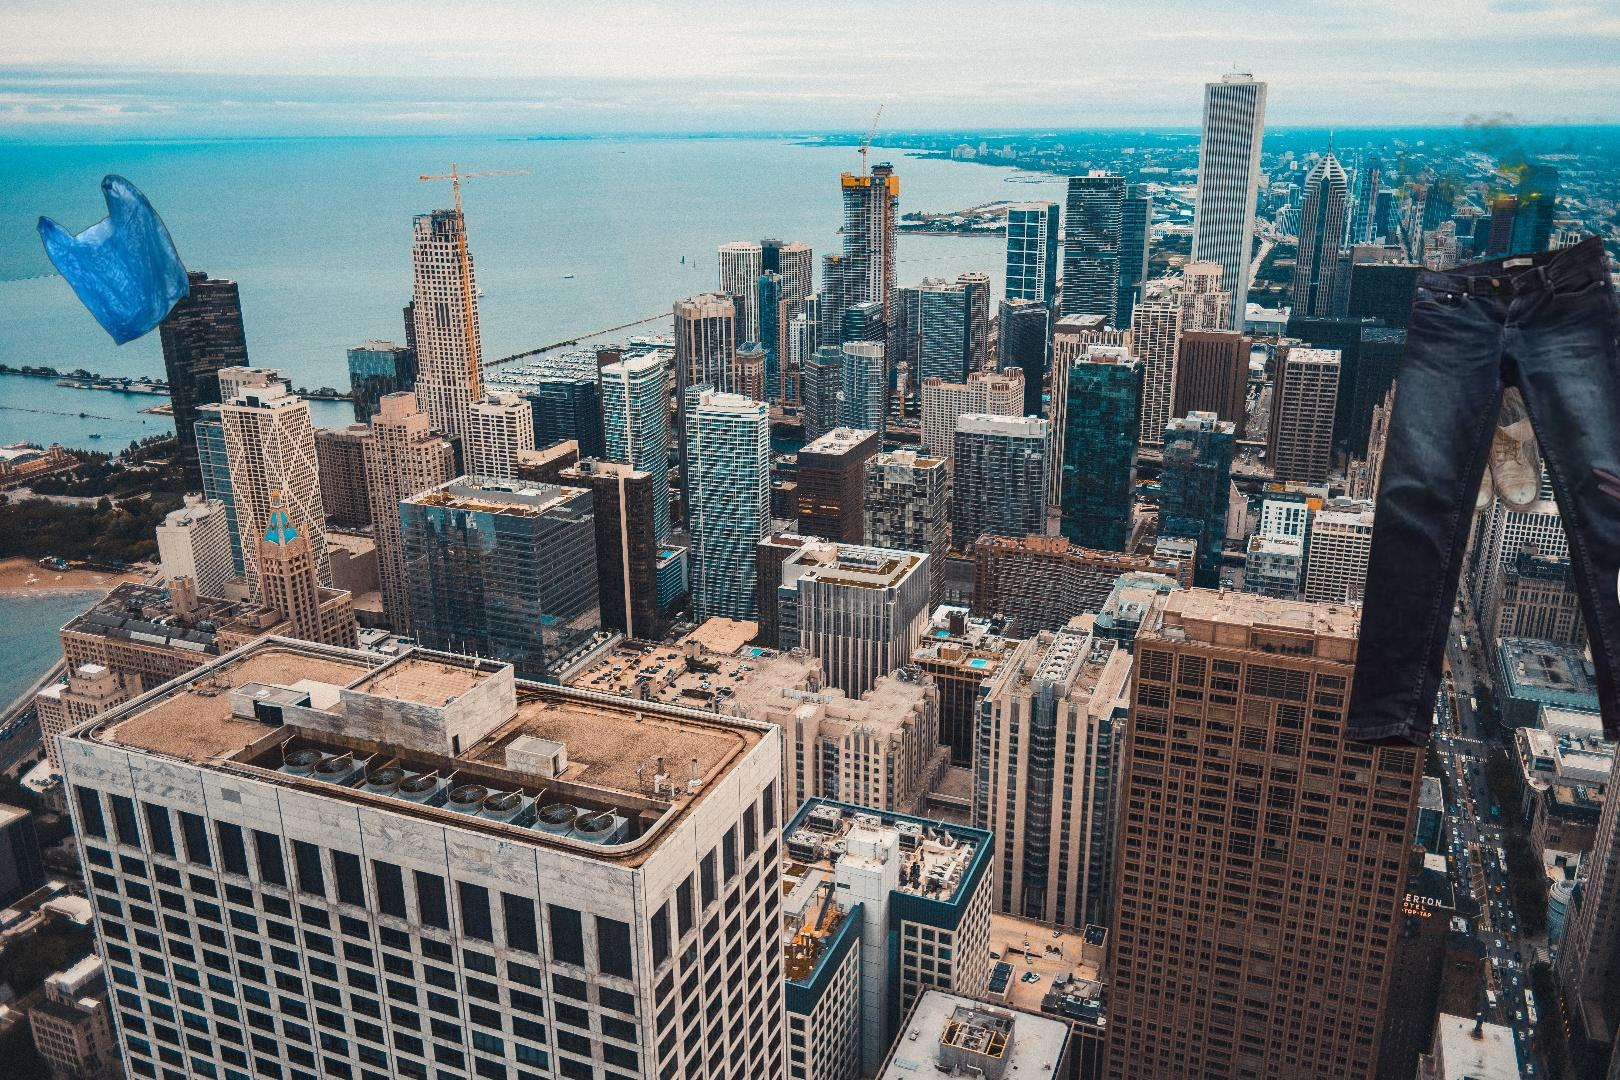biological: (1395, 111, 1620, 279), (1587, 419, 1620, 719)
clothes: (1339, 227, 1620, 754)
plastic-bag: (34, 172, 192, 347)
shoes: (1435, 379, 1548, 563)
